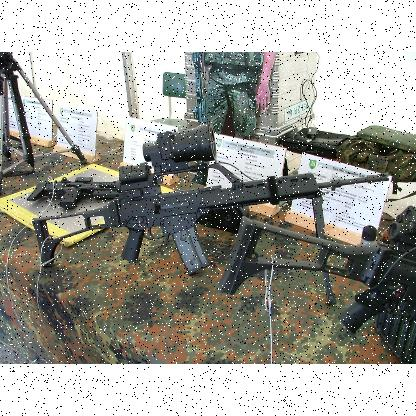gun: (26, 52, 416, 333)
